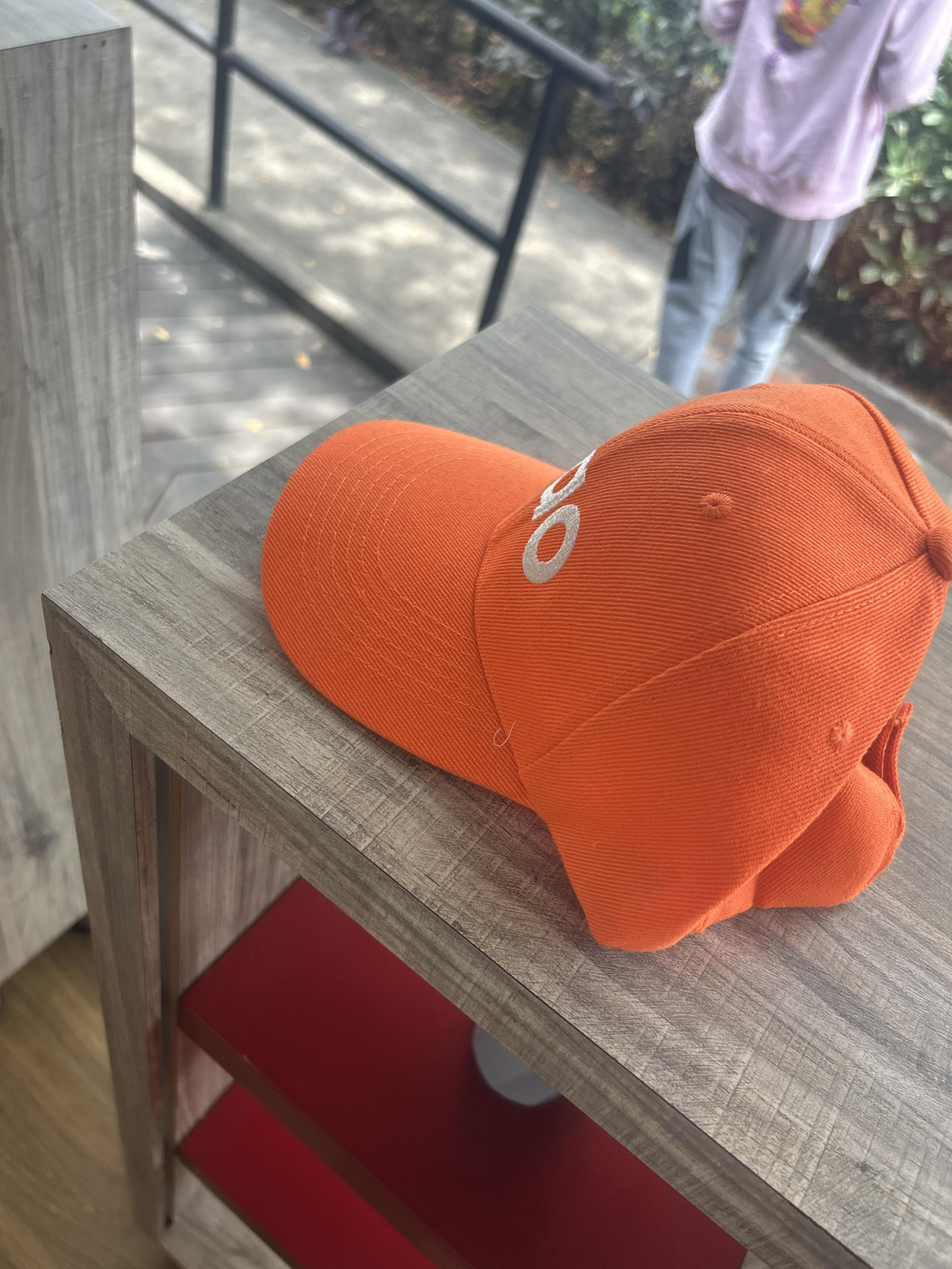gorra: (262, 385, 952, 952)
